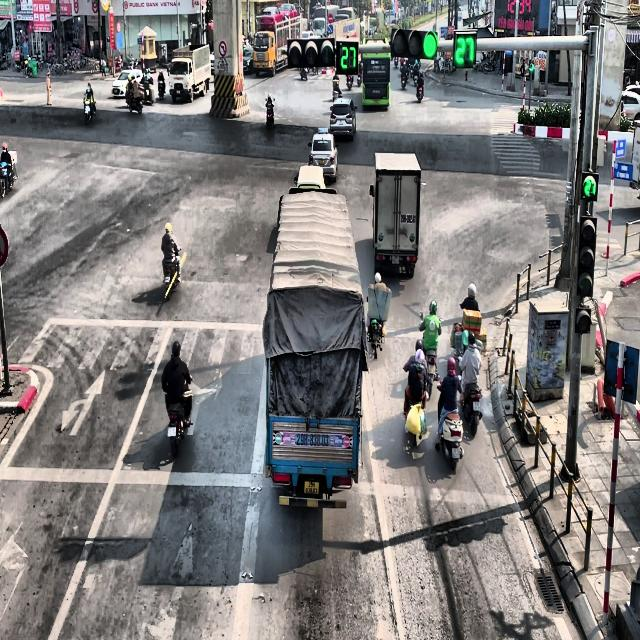lisence_plate: (293, 429, 334, 451), (303, 479, 320, 496), (400, 211, 417, 223), (167, 424, 177, 438), (391, 254, 400, 266), (319, 159, 325, 166), (372, 90, 380, 93), (339, 120, 344, 124), (374, 100, 379, 102)
